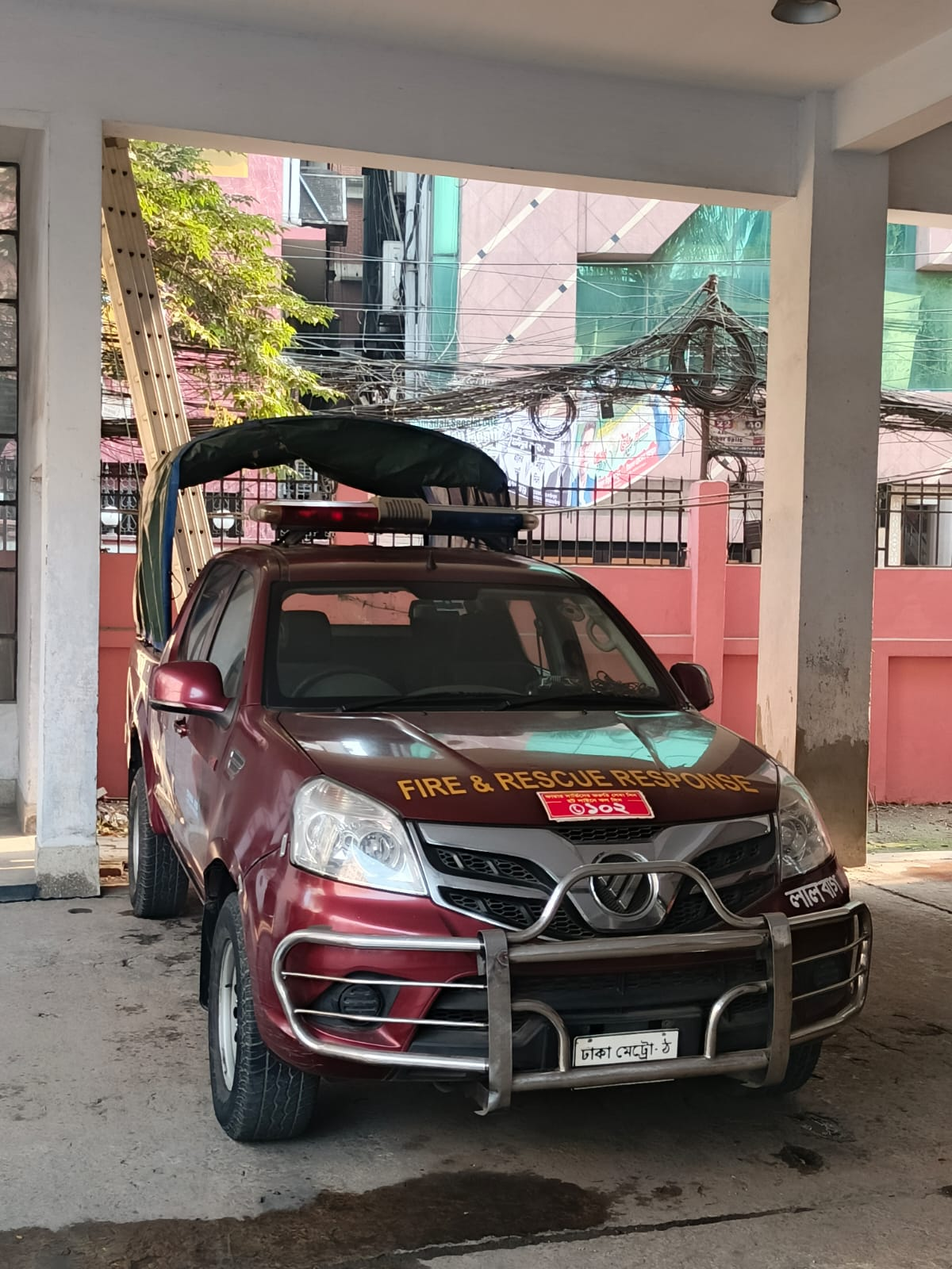Fire truck: (103, 398, 891, 1160)
